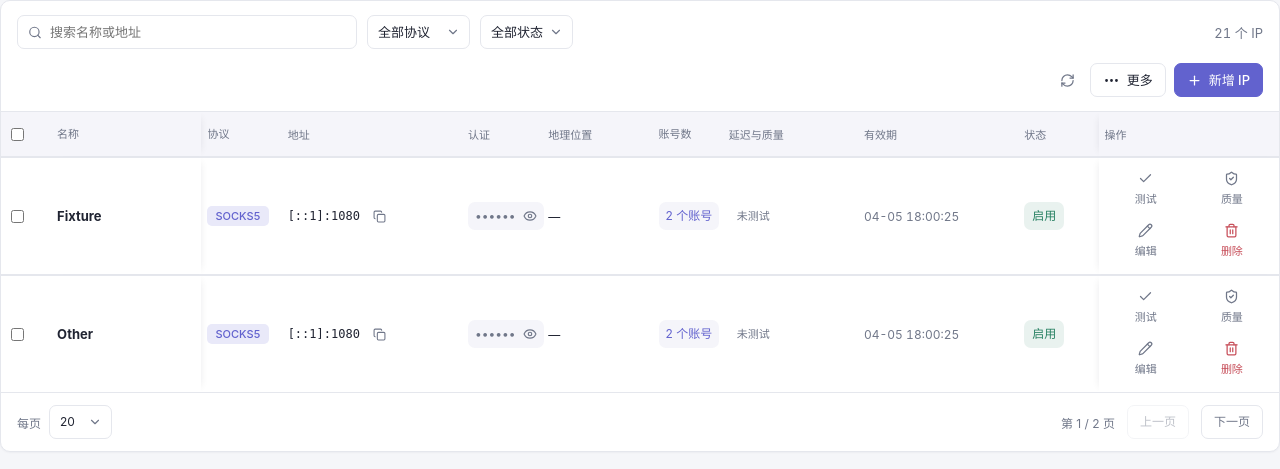
Test: IP administration › discards stale authentication on connection change and disables writes offline
Click the button named "查看 Fixture 认证" at (506, 216), box [468,202,544,230]
Wait 200 ms
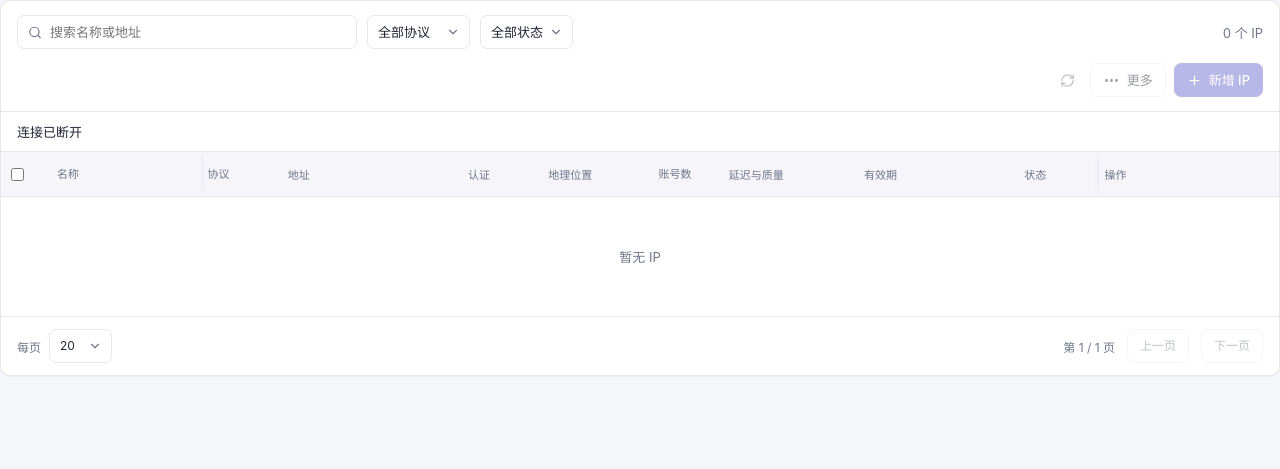
Expected: the button "新增 IP" is disabled, [1174,63,1263,97]
